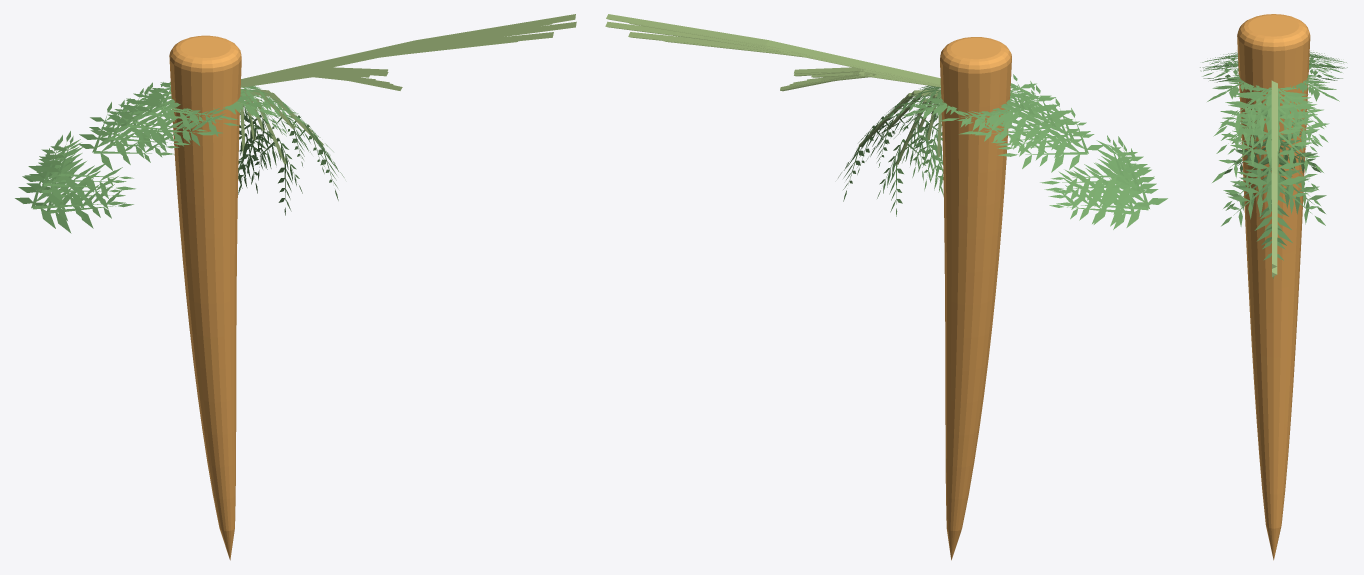
File: carrot_harvest_v15.articulated.glb
The picture shows the model from 3 angles, left to right: view 1: azimuth 30°, elevation 25°; view 2: azimuth 150°, elevation 25°; view 3: azimuth 270°, elevation 25°; orthographic projection.
Visible parts, largest first — view 1: root, leaf02_link2, leaf04_link2, leaf03_link2, leaf01_link2, leaf06_link2, leaf01_link0, leaf05_link2, leaf00_link2, leaf00_link0, leaf02_link0, leaf02_link1; view 2: root, leaf02_link2, leaf04_link2, leaf03_link2, leaf06_link2, leaf05_link2, leaf00_link0, leaf01_link2, leaf00_link2, leaf01_link0, leaf02_link0; view 3: root, leaf02_link2, leaf01_link2, leaf04_link2, leaf05_link2, leaf00_link2, leaf00_link0, leaf06_link2, leaf03_link2.
Part boxes in pixels (<box>): root: <box>169,35,241,560</box>; leaf02_link2: <box>15,82,344,228</box>; leaf04_link2: <box>36,82,311,197</box>; leaf03_link2: <box>41,84,278,192</box>; leaf01_link2: <box>35,86,302,233</box>; leaf06_link2: <box>24,82,286,202</box>; leaf01_link0: <box>240,21,576,85</box>; leaf05_link2: <box>26,86,334,209</box>; leaf00_link2: <box>33,82,283,211</box>; leaf00_link0: <box>241,14,575,79</box>; leaf02_link0: <box>241,32,553,86</box>; leaf02_link1: <box>240,70,402,90</box>; root: <box>940,37,1011,560</box>; leaf02_link2: <box>838,74,1167,227</box>; leaf04_link2: <box>866,86,1143,200</box>; leaf03_link2: <box>902,85,1139,193</box>; leaf06_link2: <box>894,90,1154,206</box>; leaf05_link2: <box>849,85,1156,208</box>; leaf00_link0: <box>606,14,940,84</box>; leaf01_link2: <box>877,81,1150,229</box>; leaf00_link2: <box>900,87,1146,214</box>; leaf01_link0: <box>605,21,940,84</box>; leaf02_link0: <box>628,32,938,84</box>; root: <box>1237,14,1310,560</box>; leaf02_link2: <box>1200,55,1347,278</box>; leaf01_link2: <box>1201,62,1342,245</box>; leaf04_link2: <box>1210,54,1341,209</box>; leaf05_link2: <box>1204,54,1335,230</box>; leaf00_link2: <box>1211,62,1335,179</box>; leaf00_link0: <box>1271,80,1277,268</box>; leaf06_link2: <box>1202,52,1346,188</box>; leaf03_link2: <box>1213,52,1334,176</box>.
Bounding box in the file's own units: 0.2173 × 0.1983 × 0.0525.
1 material, 1 textured.
